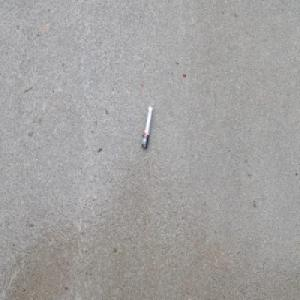Battery: (141, 104, 153, 150)
